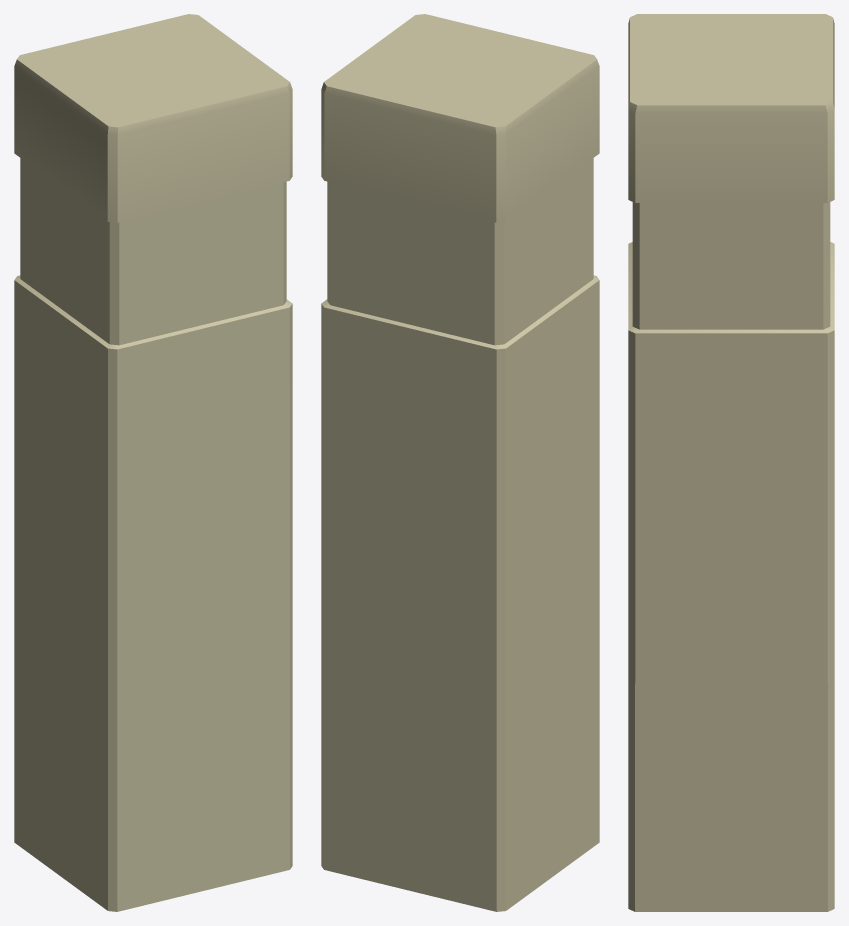
Rendered from SM_Lamp.FBX.
The picture shows the model from 3 angles, left to right: view 1: azimuth 30°, elevation 25°; view 2: azimuth 150°, elevation 25°; view 3: azimuth 270°, elevation 25°; orthographic projection. The views are drawn at different scales.
Visible parts, largest first — view 1: SM_Lamp; view 2: SM_Lamp; view 3: SM_Lamp.
Part boxes in pixels (<box>): SM_Lamp: <box>14,14,292,911</box>; SM_Lamp: <box>321,14,599,911</box>; SM_Lamp: <box>628,14,834,911</box>.
Bounding box in the file's own units: 10.83 × 10.18 × 43.88.
